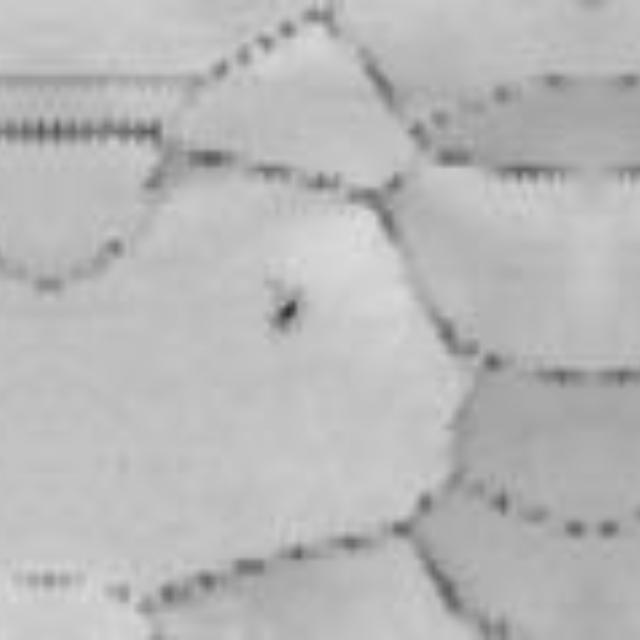good_void: (267, 292, 306, 337)
